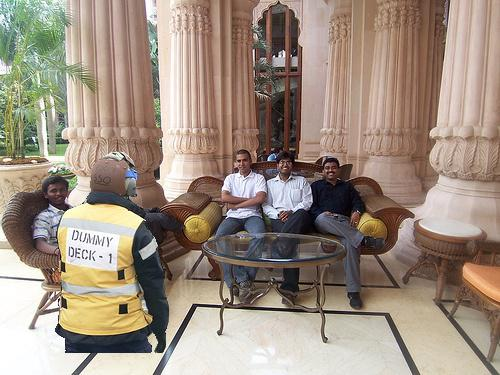tampered: (56, 152, 169, 353)
